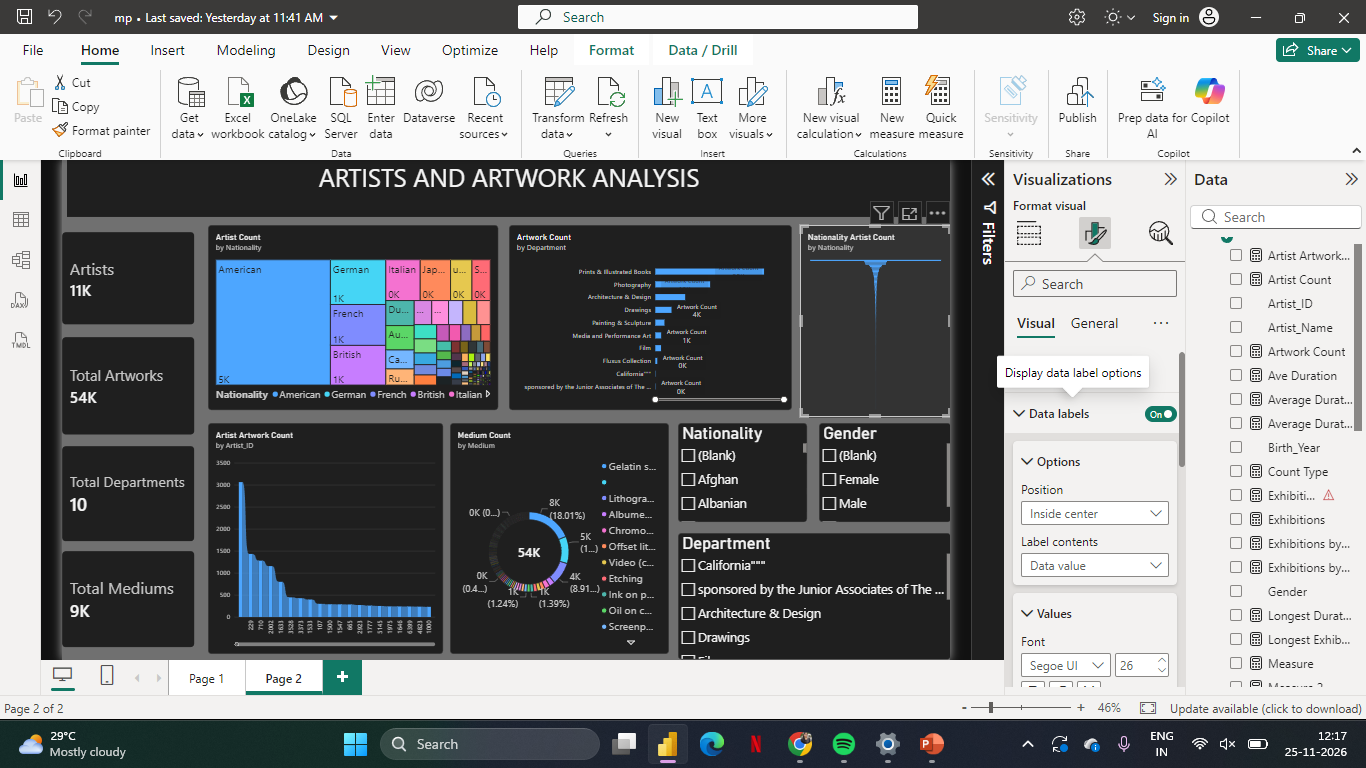

This screenshot's page, from the dashboard's own definition file:
{"tool":"powerbi","page":{"name":"Page 2","canvas":[1920,1080],"ordinal":1},"visuals":[{"type":"textbox","box":[10.8,0,1909.4,123.1],"z":0},{"type":"cardVisual","fields":{"Data":["artexhibitiondb artworks.no of Artists"]},"box":[0,155.6,286.7,200],"z":1000},{"type":"cardVisual","fields":{"Data":["artexhibitiondb artist.Total Artworks"]},"box":[0,382.2,286.7,211.1],"z":2000},{"type":"cardVisual","fields":{"Data":["artexhibitiondb artist.Total Departments"]},"box":[0,617.8,286.7,206.7],"z":3000},{"type":"cardVisual","fields":{"Data":["artexhibitiondb artist.Total Mediums"]},"box":[0,844.4,286.7,208.9],"z":4000},{"type":"treemap","fields":{"Group":["artexhibitiondb artist.Nationality"],"Values":["artexhibitiondb artist.Artist Count"]},"box":[315.6,140,626.7,400],"z":5000},{"type":"clusteredBarChart","fields":{"Category":["artexhibitiondb artworks.Department"],"Y":["artexhibitiondb artist.Artwork Count"]},"box":[964.4,140,611.1,400],"z":6000},{"type":"donutChart","fields":{"Category":["artexhibitiondb artworks.Medium"],"Y":["artexhibitiondb artist.Medium Count"]},"box":[838.1,568.1,473,499],"z":8000},{"type":"funnel","fields":{"Category":["artexhibitiondb artist.Nationality"],"Y":["artexhibitiondb artist.Nationality Artist Count"]},"box":[1593.3,140,326.7,415.6],"z":9000},{"type":"slicer","fields":{"Values":["artexhibitiondb artist.Nationality"]},"box":[1330.6,568.1,278.6,213.8],"z":10000},{"type":"slicer","fields":{"Values":["artexhibitiondb artist.Gender"]},"box":[1635.1,568.1,285,214],"z":11000},{"type":"slicer","fields":{"Values":["artexhibitiondb artworks.Department"]},"box":[1331.1,806.7,588.9,273.3],"z":12000},{"type":"ribbonChart","fields":{"Category":["artexhibitiondb artworks.Artist_ID"],"Y":["artexhibitiondb artist.Artist Artwork Count"]},"box":[315.4,568.1,507.6,499],"z":12001}]}

Visuals, with their boxes on the page's 1920x1080 design canvas (x1, y1, x2, y2). These are canvas units, not pixel positions in the 1366x768 screenshot, which may show the page scaled, cropped or inside an application window:
textbox: <box>11,0,1920,123</box>
cardVisual - artexhibitiondb artworks.no of Artists: <box>0,156,287,356</box>
cardVisual - artexhibitiondb artist.Total Artworks: <box>0,382,287,593</box>
cardVisual - artexhibitiondb artist.Total Departments: <box>0,618,287,824</box>
cardVisual - artexhibitiondb artist.Total Mediums: <box>0,844,287,1053</box>
treemap - artexhibitiondb artist.Nationality x artexhibitiondb artist.Artist Count: <box>316,140,942,540</box>
clusteredBarChart - artexhibitiondb artworks.Department x artexhibitiondb artist.Artwork Count: <box>964,140,1576,540</box>
donutChart - artexhibitiondb artworks.Medium x artexhibitiondb artist.Medium Count: <box>838,568,1311,1067</box>
funnel - artexhibitiondb artist.Nationality x artexhibitiondb artist.Nationality Artist Count: <box>1593,140,1920,556</box>
slicer - artexhibitiondb artist.Nationality: <box>1331,568,1609,782</box>
slicer - artexhibitiondb artist.Gender: <box>1635,568,1920,782</box>
slicer - artexhibitiondb artworks.Department: <box>1331,807,1920,1080</box>
ribbonChart - artexhibitiondb artworks.Artist_ID x artexhibitiondb artist.Artist Artwork Count: <box>315,568,823,1067</box>
